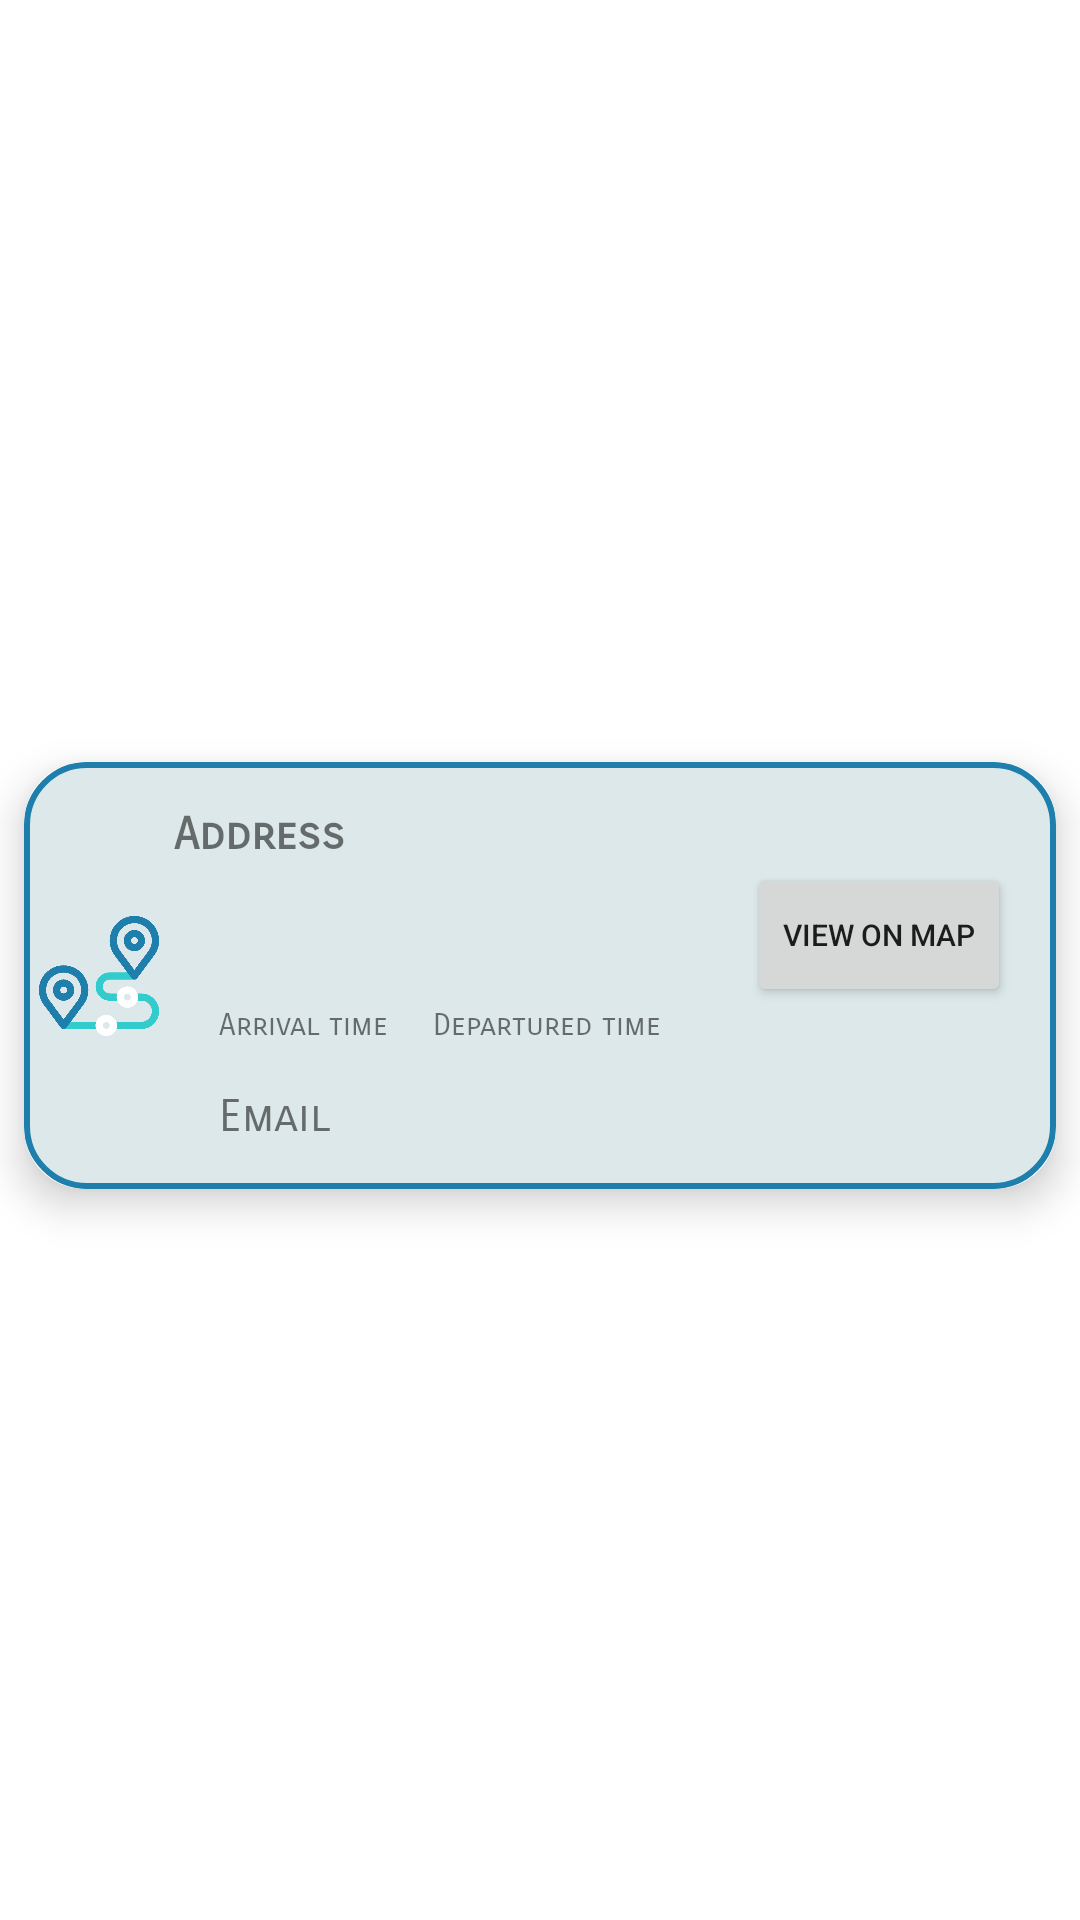

Where icons sit on this 1080×1920 app screen, as detection(x1, y1, x2, y2):
loc history: detection(39, 916, 159, 1036)
